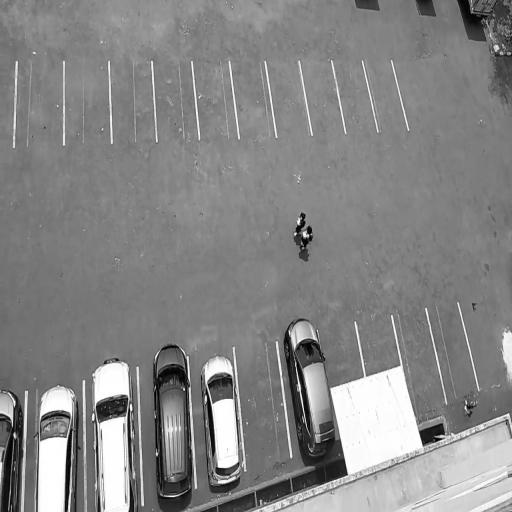Car: (282, 315, 340, 470), (88, 354, 139, 512), (151, 339, 195, 512), (199, 352, 246, 494), (31, 379, 79, 512), (0, 385, 26, 512), (460, 0, 500, 20)
Space Available: (234, 342, 291, 468), (391, 308, 446, 412), (427, 302, 479, 405), (15, 61, 63, 147), (65, 60, 112, 145), (110, 61, 158, 143), (153, 61, 199, 141), (193, 62, 239, 140), (299, 59, 346, 135), (230, 62, 276, 139), (266, 62, 312, 137), (332, 62, 378, 133), (363, 60, 408, 131), (318, 322, 364, 388), (356, 316, 401, 375), (0, 62, 16, 148)
